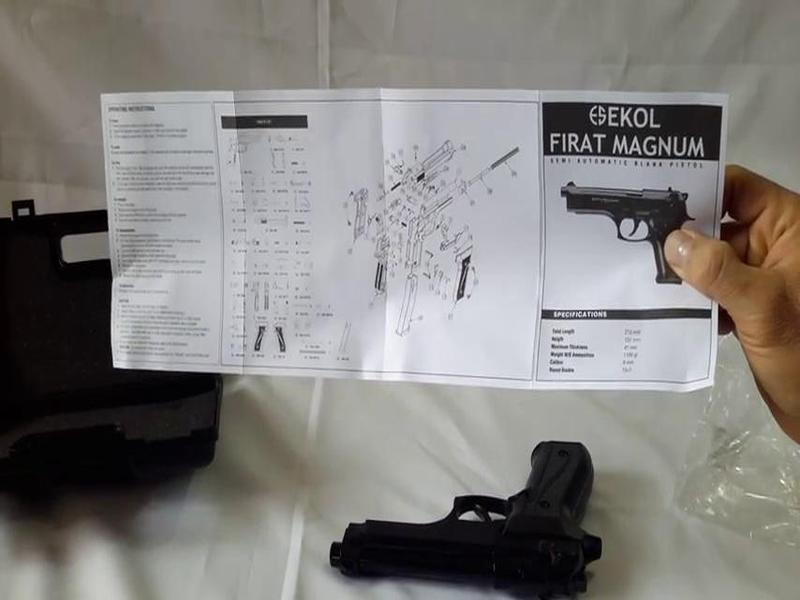Pistola: (305, 415, 626, 600)
